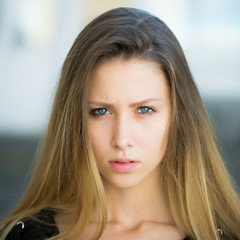teen: (64, 20, 181, 192)
